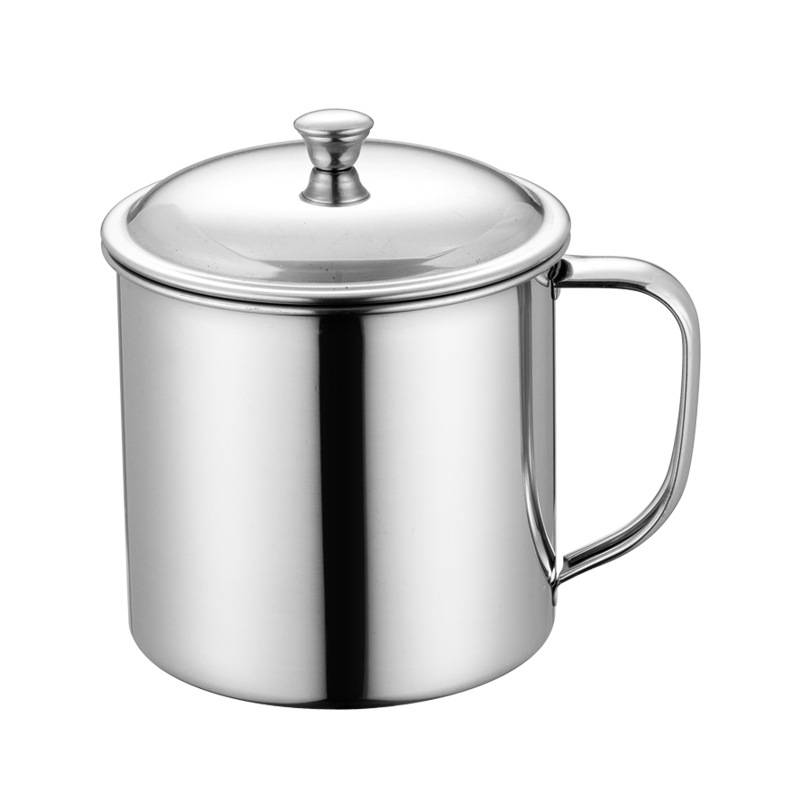metal: (99, 107, 702, 708)
